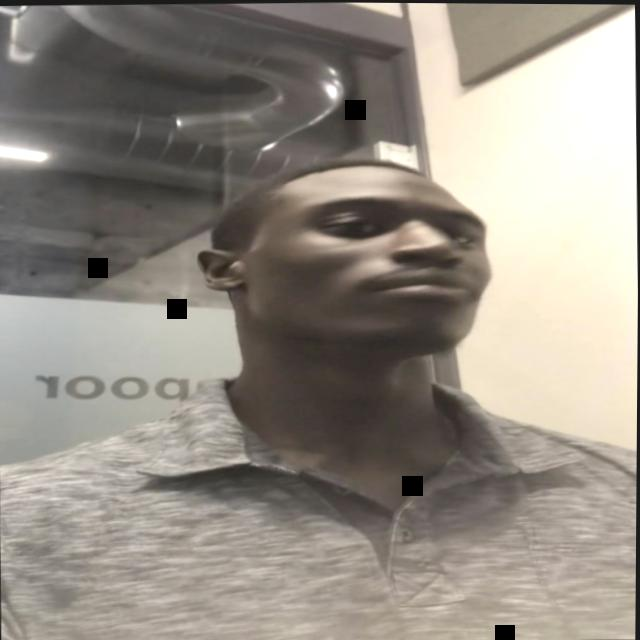NO-Mask: (234, 174, 500, 359)
